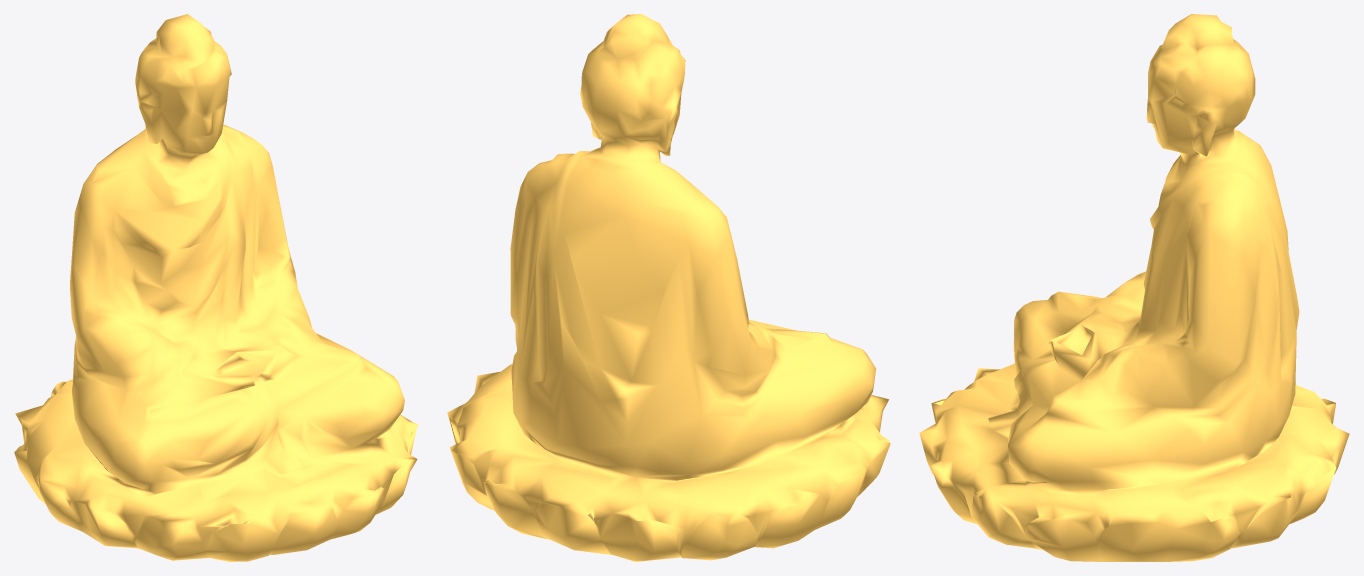
File: gallery-far.glb
3 renders of one model, left to right at view 1: azimuth 30°, elevation 25°; view 2: azimuth 150°, elevation 25°; view 3: azimuth 270°, elevation 25°, orthographic. The views are drawn at different scales.
Parts seen in each view (by area): view 1: Mesh1.0; view 2: Mesh1.0; view 3: Mesh1.0.
Part boxes in pixels (x1=…): Mesh1.0: x1=14, y1=14, x2=418, y2=561; Mesh1.0: x1=447, y1=14, x2=890, y2=561; Mesh1.0: x1=919, y1=14, x2=1349, y2=561.
Size of the model in its own units: 0.8196 by 0.9993 by 0.8187.
